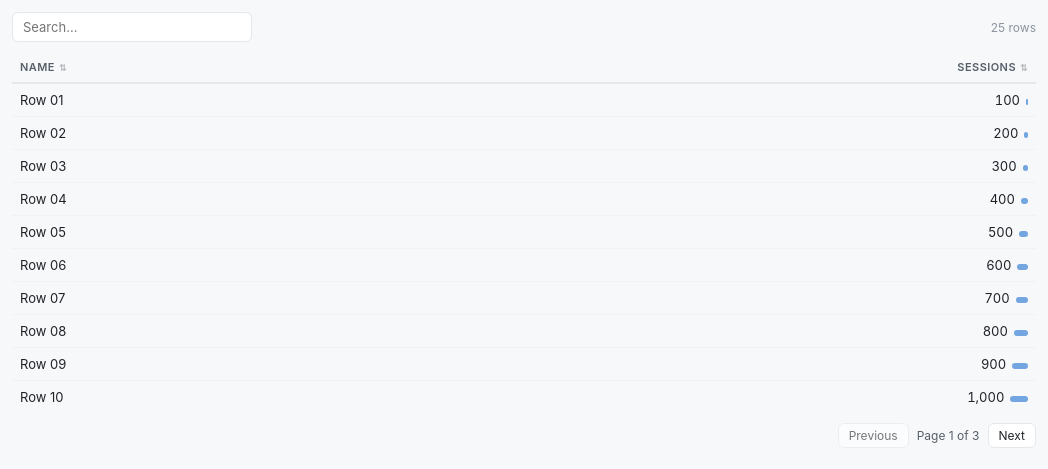
Scenario: DataTable › paginates
Expected: the text "Page 1 of 3" is shown, [917,428,980,443]
Expected: the button "Previous" is disabled, [838,423,909,448]
Click the button "Next": (1012, 436) [988,423,1036,448]
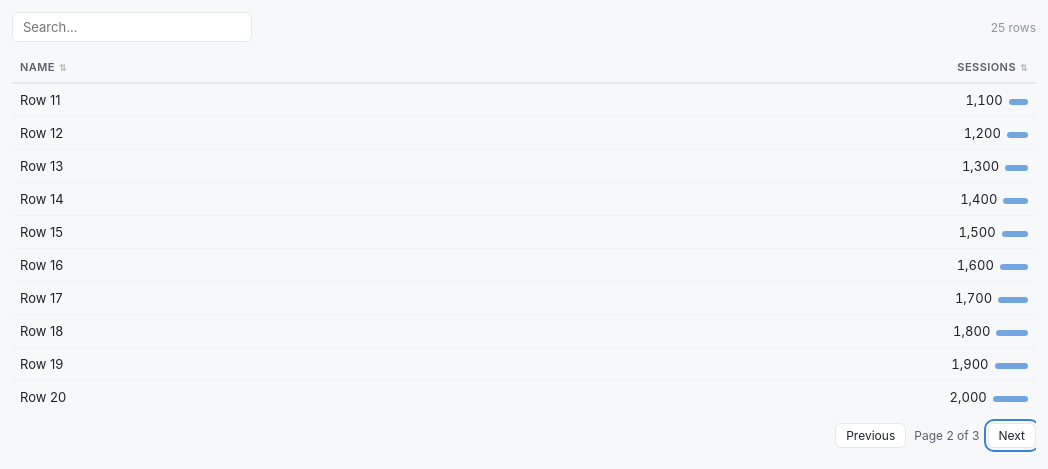
Expected: the text "Page 2 of 3" is shown, [914,428,980,443]
Expected: the cell "Row 11" is shown, [12,83,422,117]
Click the button "Next": (1012, 436) [988,423,1036,448]
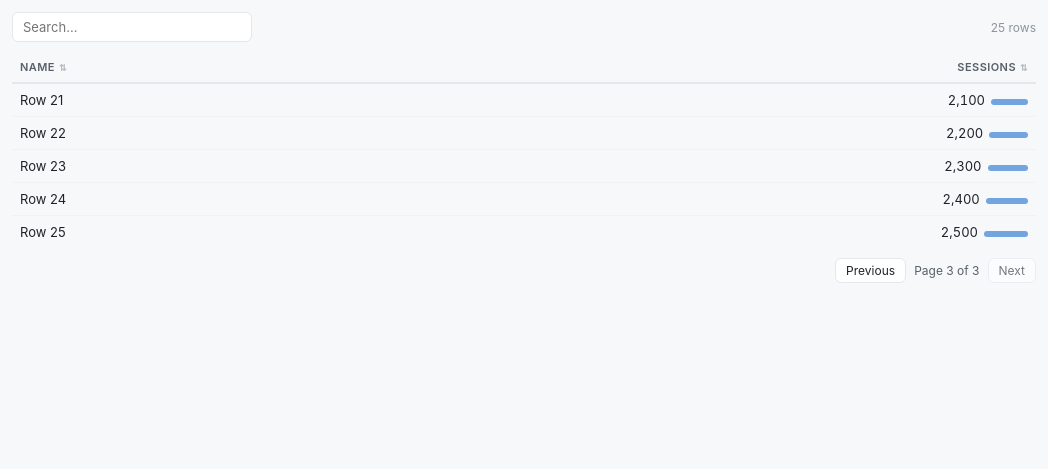
Expected: the button "Next" is disabled, [988,258,1036,283]
Click the button "Previous": (871, 271) [835,258,906,283]
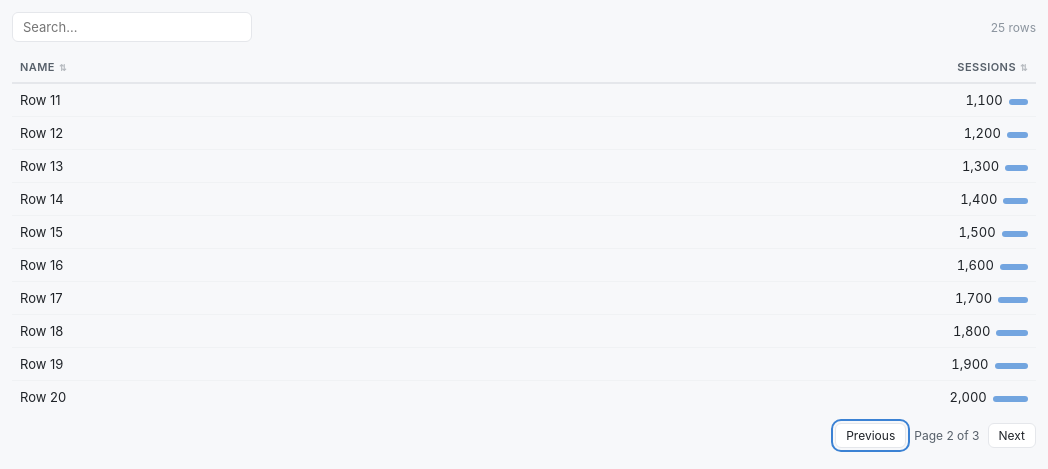
Expected: the text "Page 2 of 3" is shown, [914,428,980,443]
